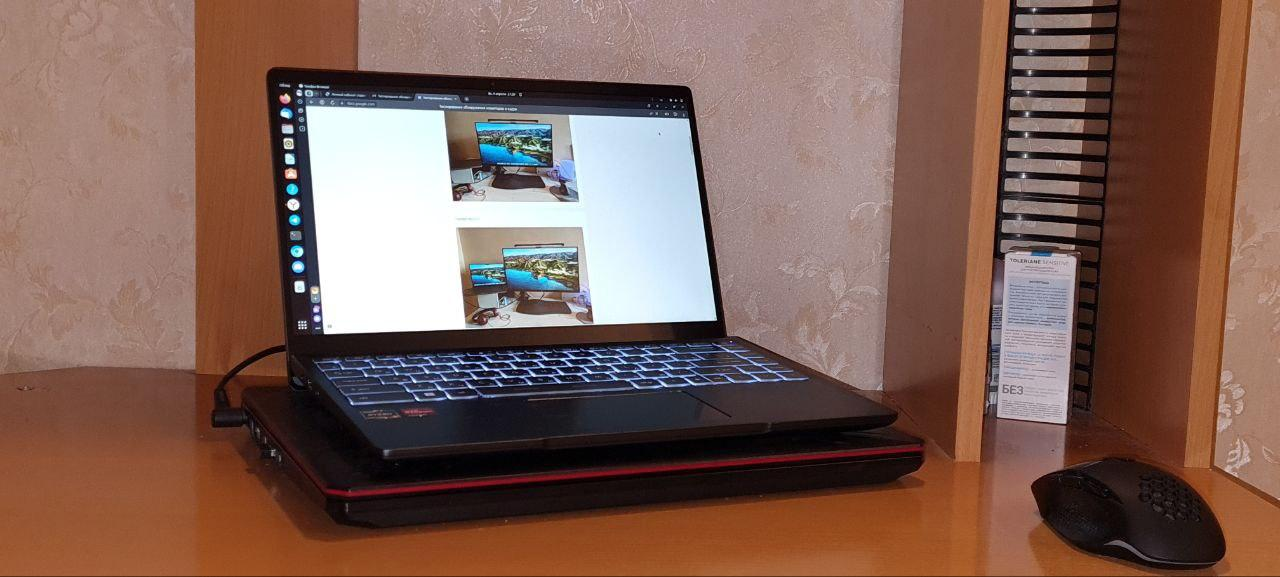monitor: (261, 61, 730, 348)
